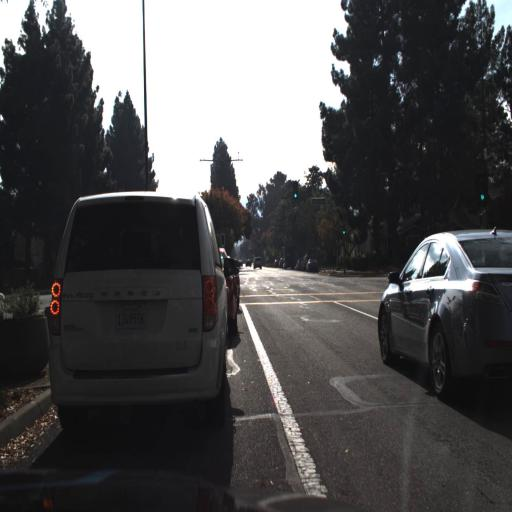car: (46, 184, 226, 442), (377, 216, 508, 420), (222, 247, 243, 331), (250, 249, 267, 275), (305, 253, 317, 272)
trafficLight-Green: (290, 179, 301, 205), (478, 175, 486, 199), (291, 178, 298, 204), (479, 181, 485, 207), (340, 216, 348, 235), (219, 229, 226, 247), (341, 222, 347, 241)
